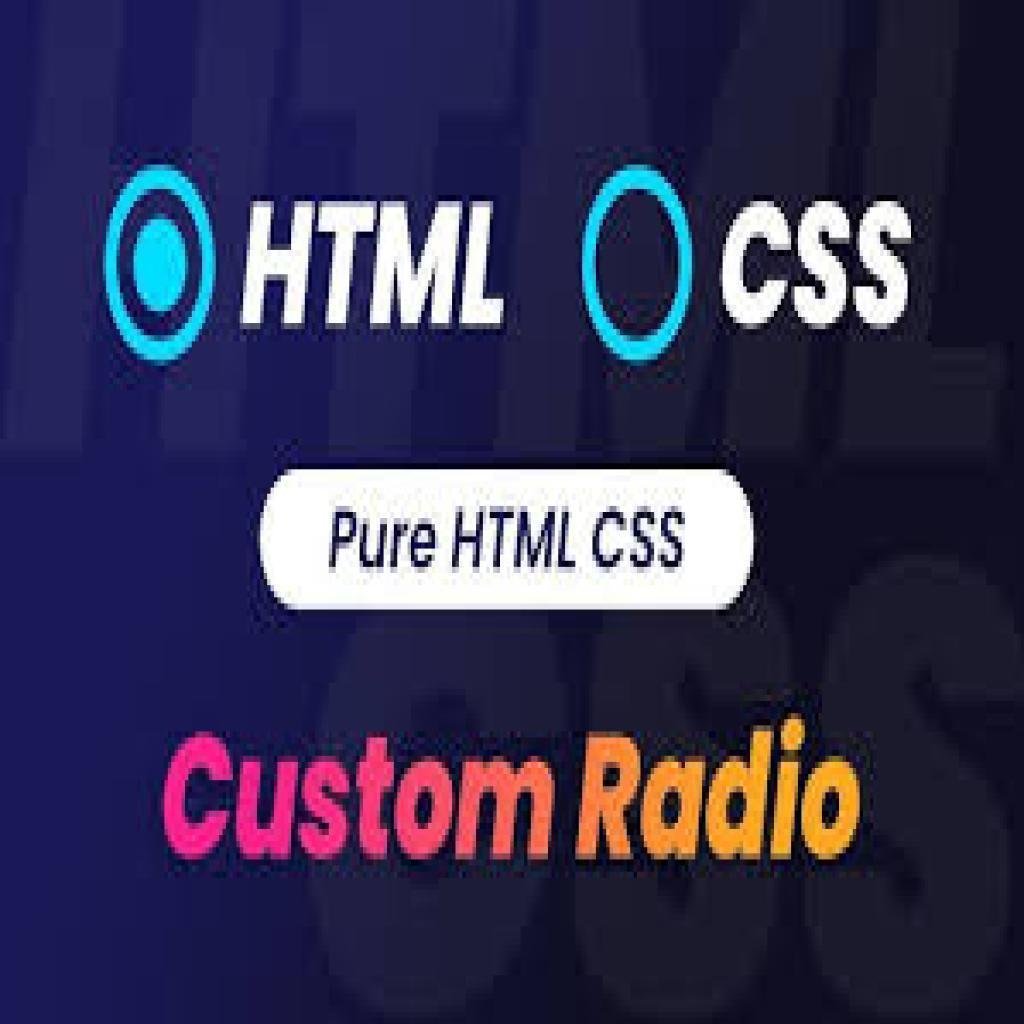button: (260, 470, 752, 607)
label: (159, 713, 871, 863), (240, 193, 507, 332), (720, 196, 911, 336)
radio: (105, 166, 217, 367), (582, 164, 692, 364)
